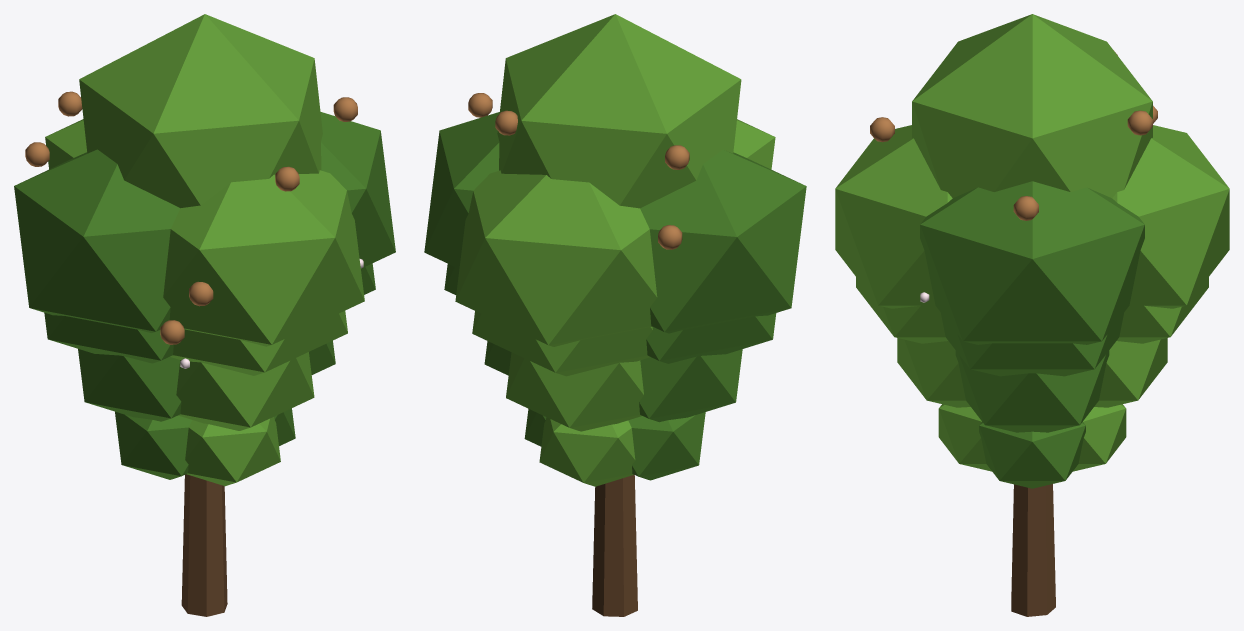
File: Crop_Nut_Almond.fbx
3 renders of one model, left to right at view 1: azimuth 30°, elevation 25°; view 2: azimuth 150°, elevation 25°; view 3: azimuth 270°, elevation 25°, orthographic.
Visible parts, largest first — view 1: Crop_Nut_Almond__S4, Crop_Nut_Almond__S2, Crop_Nut_Almond__S1, Crop_Nut_Almond__S3; view 2: Crop_Nut_Almond__S4, Crop_Nut_Almond__S2, Crop_Nut_Almond__S1, Crop_Nut_Almond__S3; view 3: Crop_Nut_Almond__S4, Crop_Nut_Almond__S2, Crop_Nut_Almond__S1, Crop_Nut_Almond__S3.
Boxes of the visible parts, <box> form: Crop_Nut_Almond__S4: <box>14,14,395,616</box>; Crop_Nut_Almond__S2: <box>78,340,335,430</box>; Crop_Nut_Almond__S1: <box>115,408,295,486</box>; Crop_Nut_Almond__S3: <box>44,259,375,375</box>; Crop_Nut_Almond__S4: <box>424,14,806,616</box>; Crop_Nut_Almond__S2: <box>484,341,742,431</box>; Crop_Nut_Almond__S1: <box>524,409,705,486</box>; Crop_Nut_Almond__S3: <box>444,264,776,376</box>; Crop_Nut_Almond__S4: <box>835,14,1229,616</box>; Crop_Nut_Almond__S2: <box>897,338,1167,432</box>; Crop_Nut_Almond__S1: <box>938,404,1126,488</box>; Crop_Nut_Almond__S3: <box>856,277,1208,376</box>.
Bounding box in the file's own units: 0.551 × 0.888 × 0.5353.
